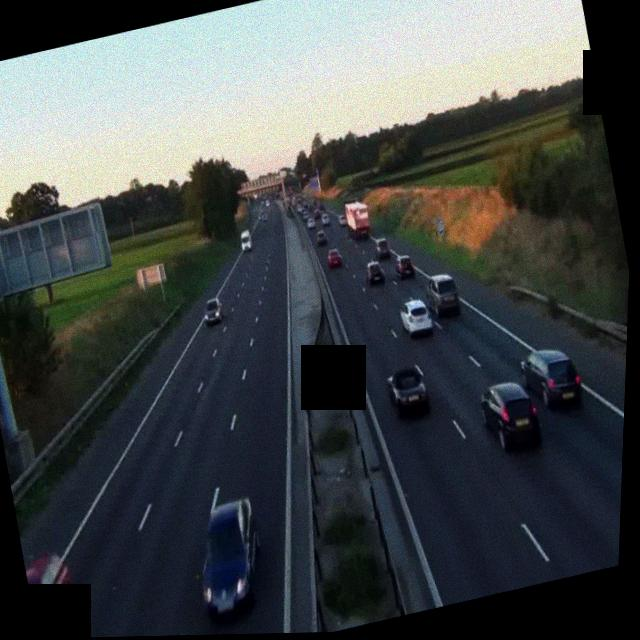car: (184, 494, 275, 622), (19, 548, 88, 639), (475, 376, 546, 455), (517, 341, 586, 417), (384, 362, 432, 419), (423, 270, 463, 320), (396, 293, 436, 340), (393, 250, 418, 280), (201, 296, 225, 326), (363, 257, 387, 285), (371, 232, 392, 256), (325, 247, 344, 268), (315, 228, 329, 245), (303, 213, 314, 227), (323, 215, 333, 228), (300, 209, 310, 222)
truck: (342, 199, 372, 238)
